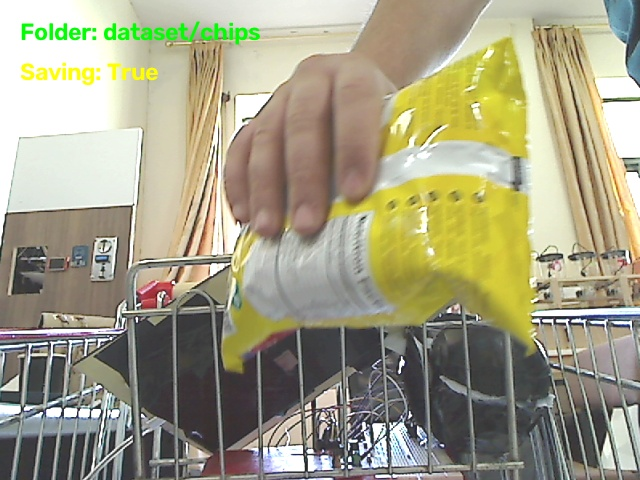chips: (222, 39, 532, 370)
